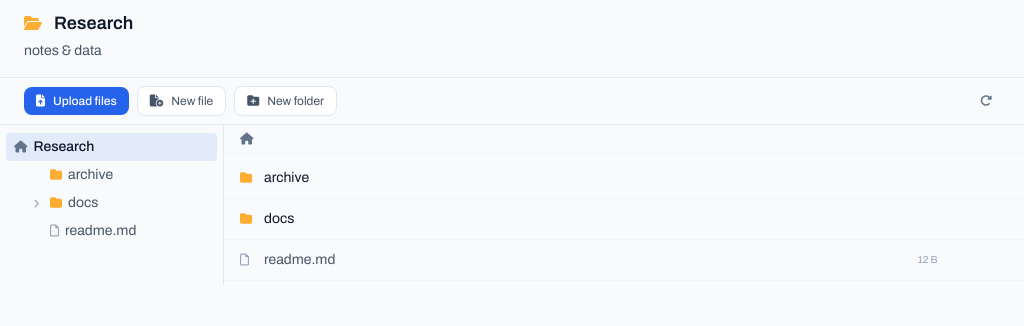
Test: ProjectPage explorer layout › clicking a folder row in the right pane navigates into it
This screenshot has width=1024, height=326.
Check: the element with test id "file-row-readme.md" is shown, box [224,240,1023,281]
Click the element with test id "file-row-docs" at (624, 220), box [224,199,1023,240]
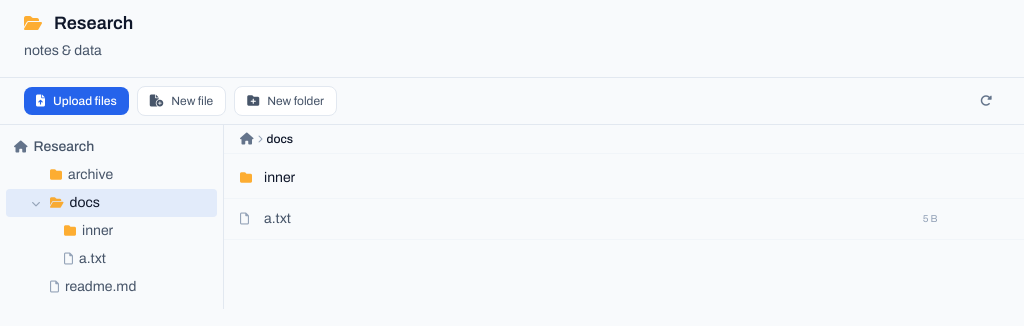
Check: the element with test id "file-row-docs/a.txt" is shown, box [224,199,1023,240]
